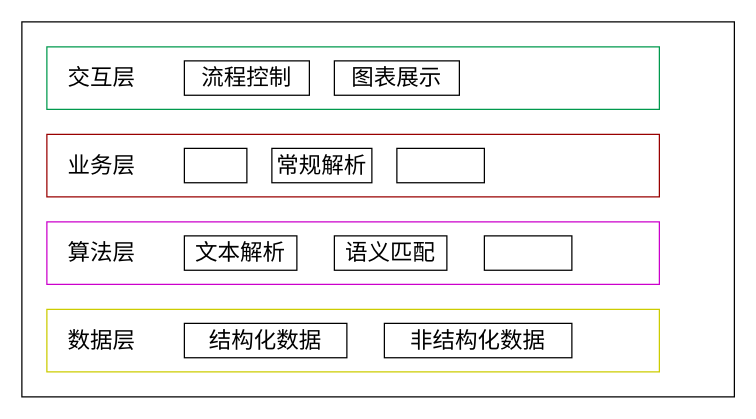
This 756x419 diagram has some shape labels left out. The centre of each missing label's shape, as x and y in pixels:
"客诉" goes at point 215,165.
"搜索" goes at point 527,252.
